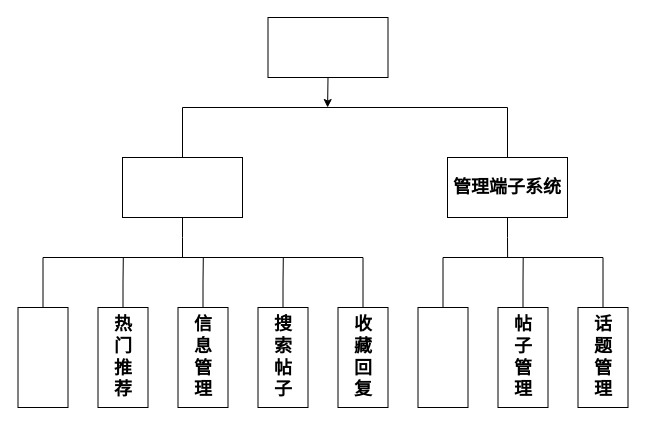
Some shapes in this 645 by 425 pixel diagram are drawn without their labels. The centre of each missing label's shape, as x and y in pixels:
"用 户 管 理" belongs at (x=442, y=357).
"用户端子系统" belongs at (x=182, y=187).
"登 录 浏 览" belongs at (x=42, y=357).
"论坛" belongs at (x=327, y=47).
